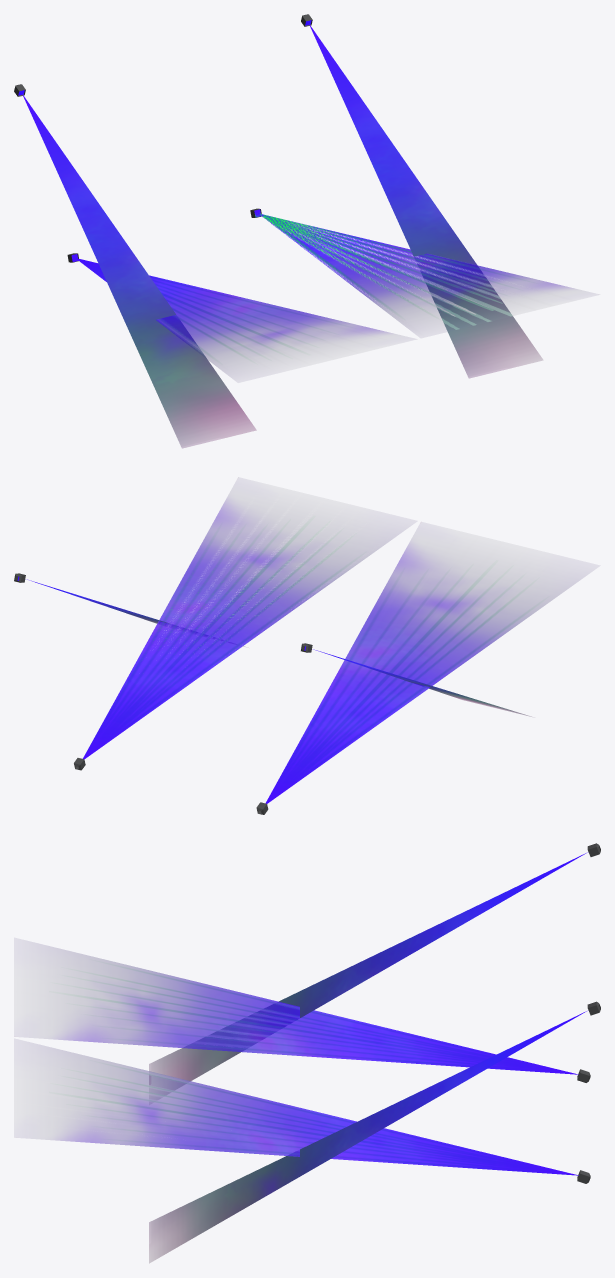
Rendered from electroLights.glb.
The picture shows the model from 3 angles, top to bottom: view 1: azimuth 30°, elevation 25°; view 2: azimuth 150°, elevation 25°; view 3: azimuth 270°, elevation 25°; orthographic projection. The views are drawn at different scales.
Parts seen in each view (by area): view 1: Lowblue_R, blue_L, Lowblue_L, green_L, blue_R, green_R, purple_R, purple_L, LowWhiteLine_R, LowGreenLine_R; view 2: Lowblue_R, Lowblue_L, LowWhiteLine_R, blue_L; view 3: Lowblue_L, Lowblue_R, blue_R, green_R, blue_L, green_L, purple_R, purple_L.
Boxes of the visible parts, x1=… form: Lowblue_R: x1=254, y1=209, x2=576, y2=330; blue_L: x1=18, y1=90, x2=222, y2=399; Lowblue_L: x1=71, y1=254, x2=392, y2=374; green_L: x1=85, y1=222, x2=234, y2=437; blue_R: x1=305, y1=20, x2=505, y2=318; green_R: x1=372, y1=152, x2=521, y2=367; purple_R: x1=443, y1=293, x2=533, y2=377; purple_L: x1=160, y1=383, x2=255, y2=445; LowWhiteLine_R: x1=263, y1=217, x2=522, y2=312; LowGreenLine_R: x1=255, y1=213, x2=473, y2=297; Lowblue_R: x1=83, y1=496, x2=396, y2=759; Lowblue_L: x1=265, y1=541, x2=578, y2=803; LowWhiteLine_R: x1=152, y1=511, x2=340, y2=655; blue_L: x1=304, y1=646, x2=497, y2=706; Lowblue_L: x1=48, y1=946, x2=578, y2=1074; Lowblue_R: x1=48, y1=1047, x2=578, y2=1175; blue_R: x1=209, y1=1011, x2=586, y2=1226; green_R: x1=162, y1=1093, x2=420, y2=1239; blue_L: x1=212, y1=852, x2=587, y2=1067; green_L: x1=162, y1=935, x2=420, y2=1080; purple_R: x1=149, y1=1162, x2=275, y2=1252; purple_L: x1=149, y1=1048, x2=212, y2=1080.
Size of the model in its own units: 16.55 by 9.1 by 20.35.
Materials: 2 (2 with a texture image).
